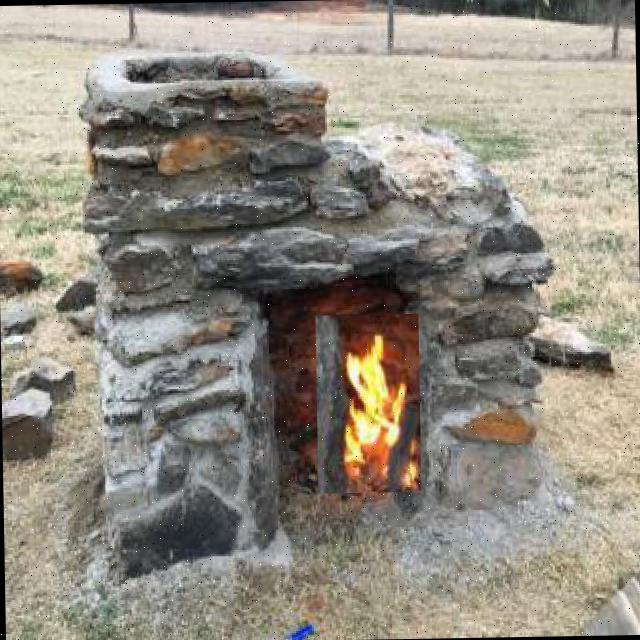fire: (315, 313, 421, 493)
